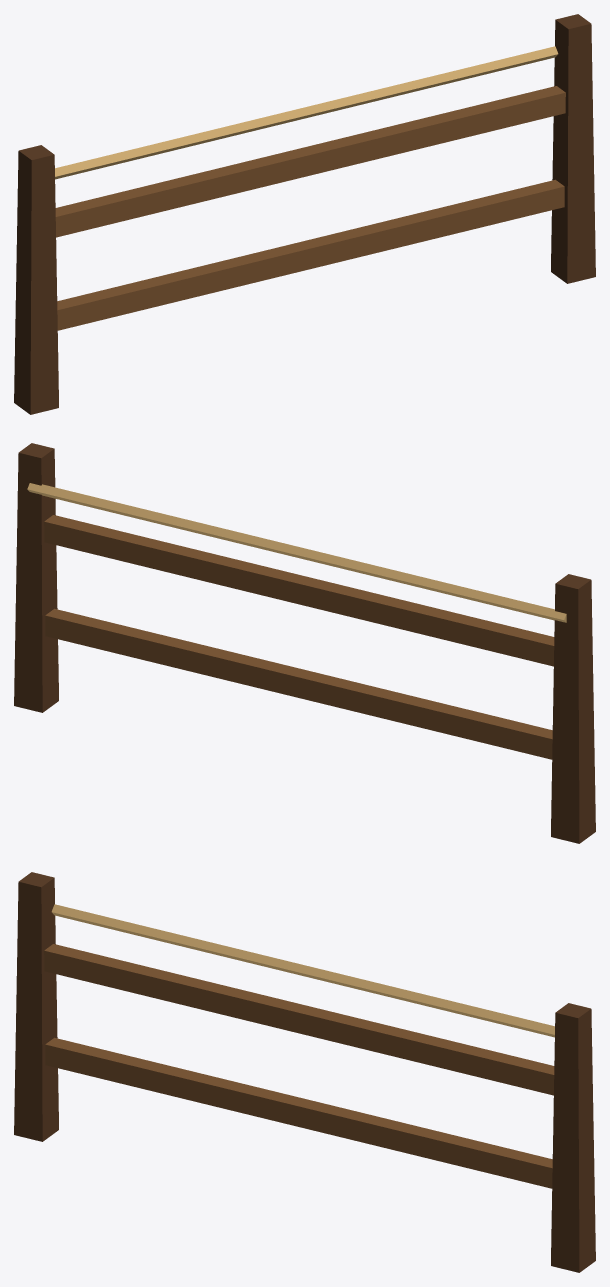
File: SM_Fence_3m.fbx
3 renders of one model, top to bottom at view 1: azimuth 30°, elevation 25°; view 2: azimuth 150°, elevation 25°; view 3: azimuth 330°, elevation 25°, orthographic.
Visible parts, largest first — view 1: SM_Fence_3m_Rail0.95, SM_Fence_3m_Rail0.45, SM_Fence_3m_PostR, SM_Fence_3m_PostL, SM_Fence_3m_Rope; view 2: SM_Fence_3m_Rail0.95, SM_Fence_3m_Rail0.45, SM_Fence_3m_PostR, SM_Fence_3m_PostL, SM_Fence_3m_Rope; view 3: SM_Fence_3m_Rail0.95, SM_Fence_3m_Rail0.45, SM_Fence_3m_PostL, SM_Fence_3m_PostR, SM_Fence_3m_Rope.
Boxes of the visible parts, x1,y1,x2,y2 form: SM_Fence_3m_Rail0.95: (55, 86, 565, 237); SM_Fence_3m_Rail0.45: (57, 179, 564, 330); SM_Fence_3m_PostR: (14, 145, 58, 414); SM_Fence_3m_PostL: (551, 14, 595, 283); SM_Fence_3m_Rope: (55, 46, 558, 179); SM_Fence_3m_Rail0.95: (44, 515, 554, 666); SM_Fence_3m_Rail0.45: (45, 608, 552, 759); SM_Fence_3m_PostR: (551, 574, 595, 843); SM_Fence_3m_PostL: (14, 443, 58, 712); SM_Fence_3m_Rope: (27, 483, 566, 622); SM_Fence_3m_Rail0.95: (44, 944, 554, 1095); SM_Fence_3m_Rail0.45: (45, 1037, 552, 1188); SM_Fence_3m_PostL: (551, 1003, 595, 1272); SM_Fence_3m_PostR: (14, 872, 58, 1141); SM_Fence_3m_Rope: (51, 904, 554, 1037).
Size of the model in its own units: 3.16 by 0.17 by 1.35.
